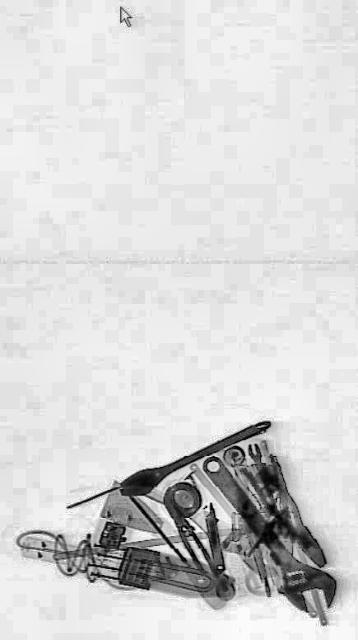Pliers: (158, 486, 220, 592), (267, 480, 331, 582)
Wrench: (192, 431, 340, 635), (118, 409, 272, 503), (246, 436, 278, 509)
